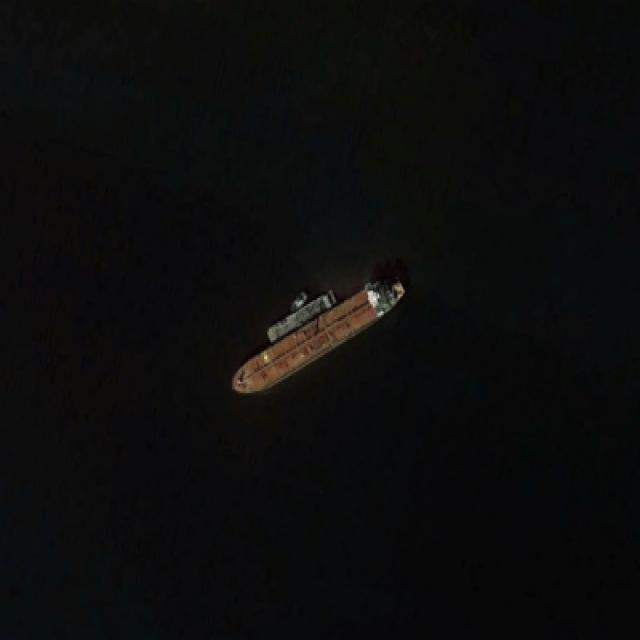boat: (229, 271, 406, 397)
